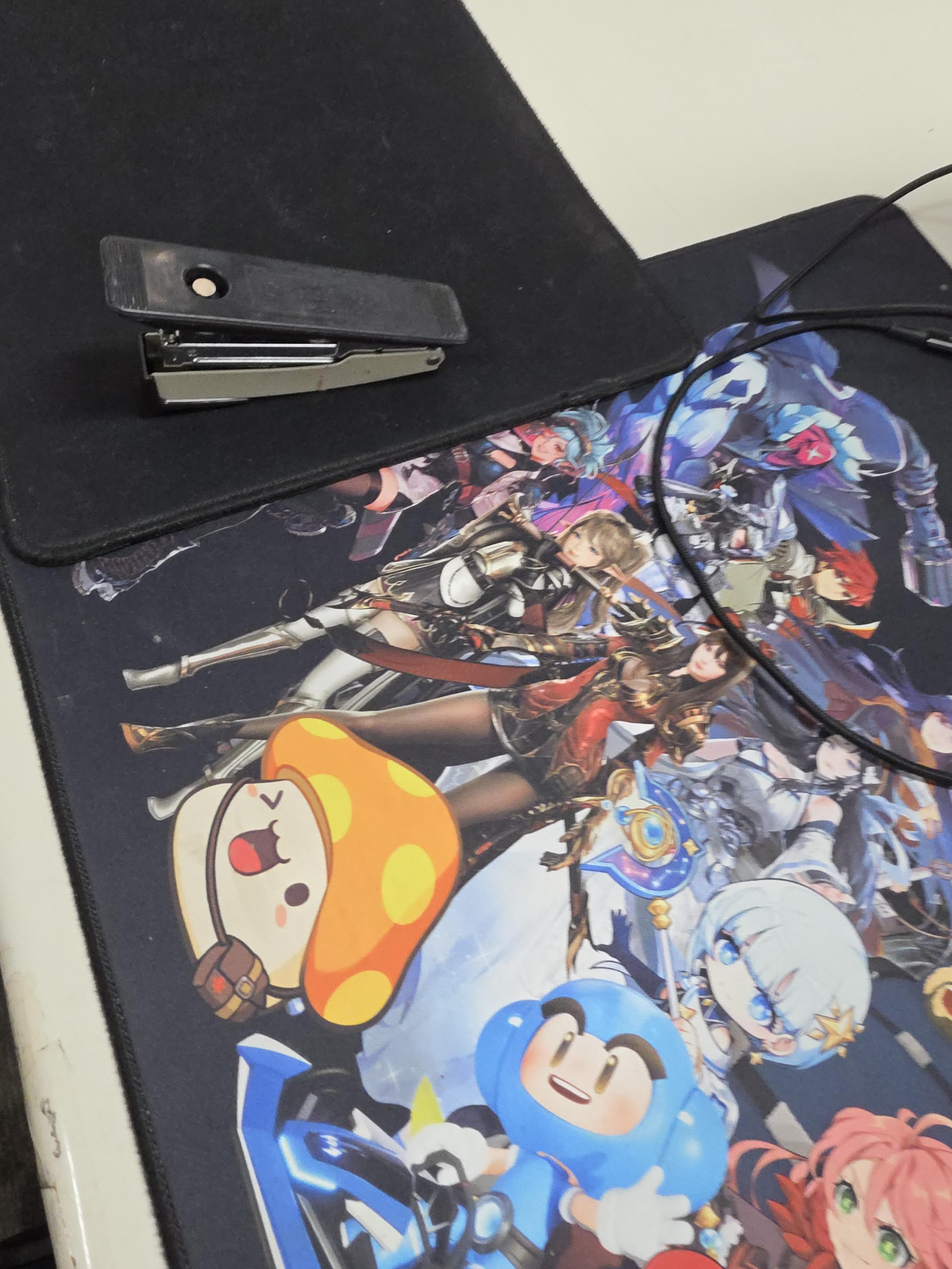stapler: (100, 235, 469, 410)
